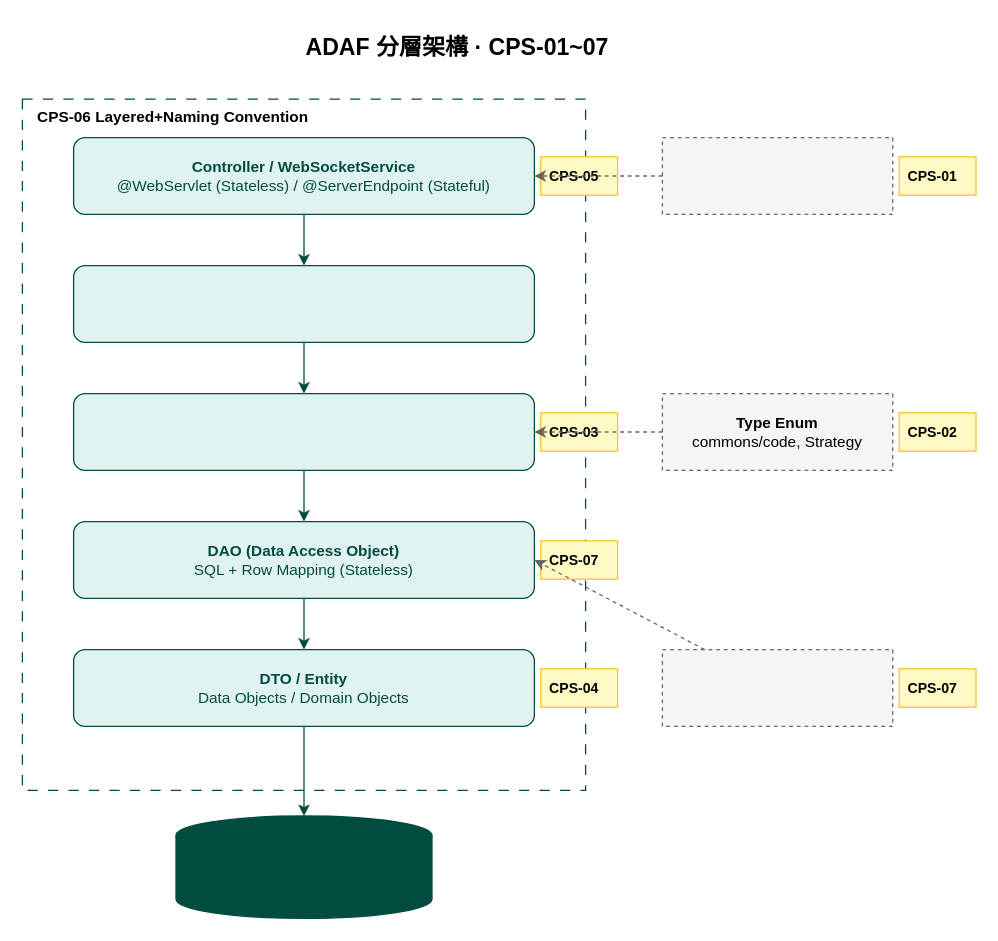
Some shapes in this 998 by 941 pixel diagram are drawn without their labels. Here are the shapes that lost their labels. From the top down, the centre of each, then its label:
At point 777,175: "Manager */provider, Singleton".
At point 303,303: "BO (Business Object) Private Constructor + Static Methods (Stateless)".
At point 303,431: "Cache (Memory State Holder) extends AbstractCache (Stateful)".
At point 777,687: "Utils Dialect Isolation DbUtils / MySqlUtils / PostgreSqlUtils".
At point 303,866: "DB PostgreSQL (Main) + MySQL (Secondary)".
